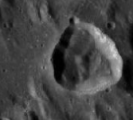crater: (34, 13, 129, 111)
